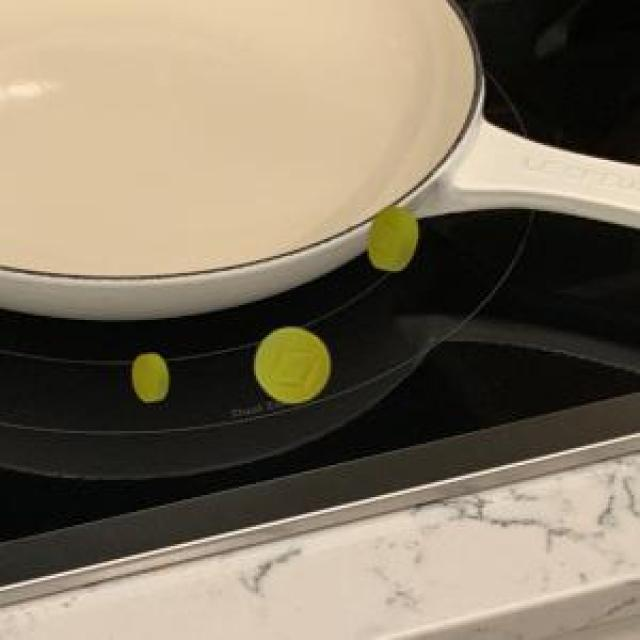Decolgen: (244, 317, 341, 422), (349, 200, 436, 283), (120, 342, 178, 411)
